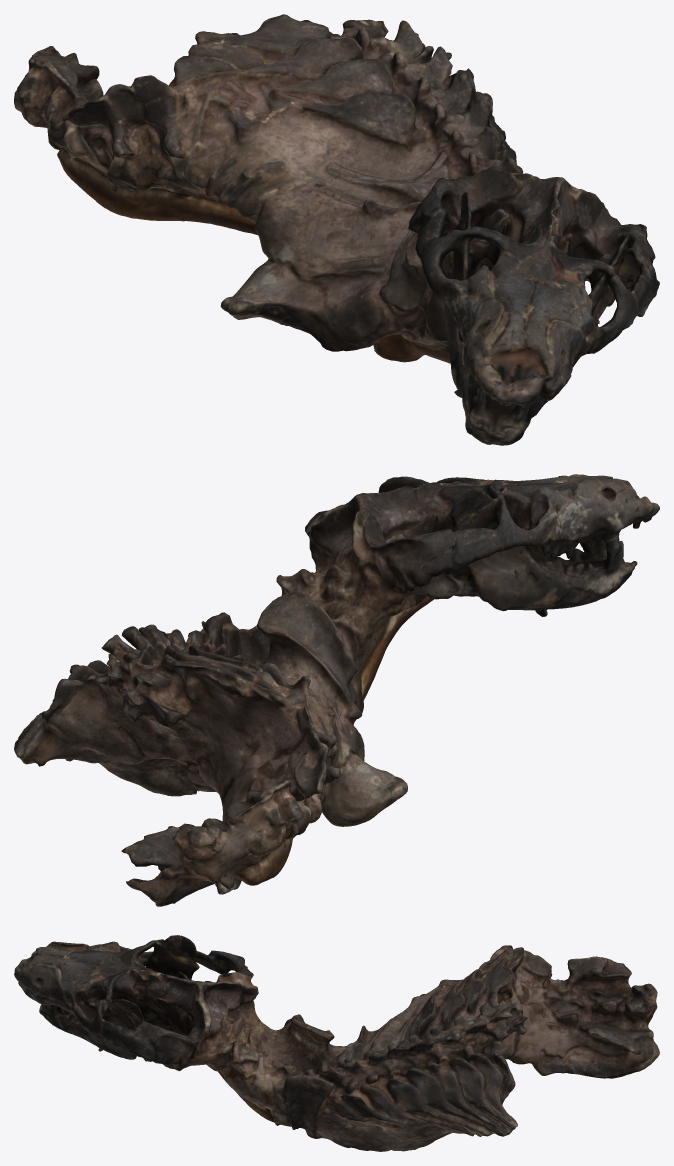
The model's file is thrinaxodon.glb.
3 renders of one model, top to bottom at view 1: azimuth 30°, elevation 25°; view 2: azimuth 150°, elevation 25°; view 3: azimuth 270°, elevation 25°, orthographic. The views are drawn at different scales.
Size of the model in its own units: 0.1006 by 0.0701 by 0.2271.
1 material, 1 textured.
